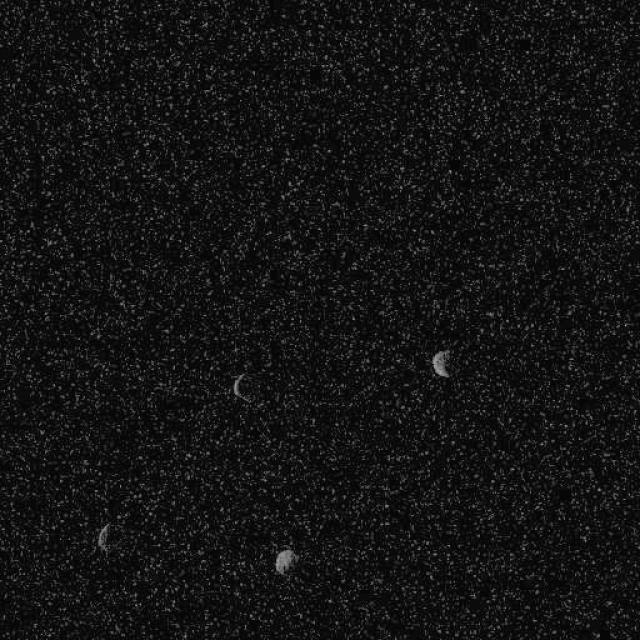D2: (231, 371, 254, 404), (274, 547, 298, 575), (430, 348, 451, 378), (95, 521, 110, 550)
